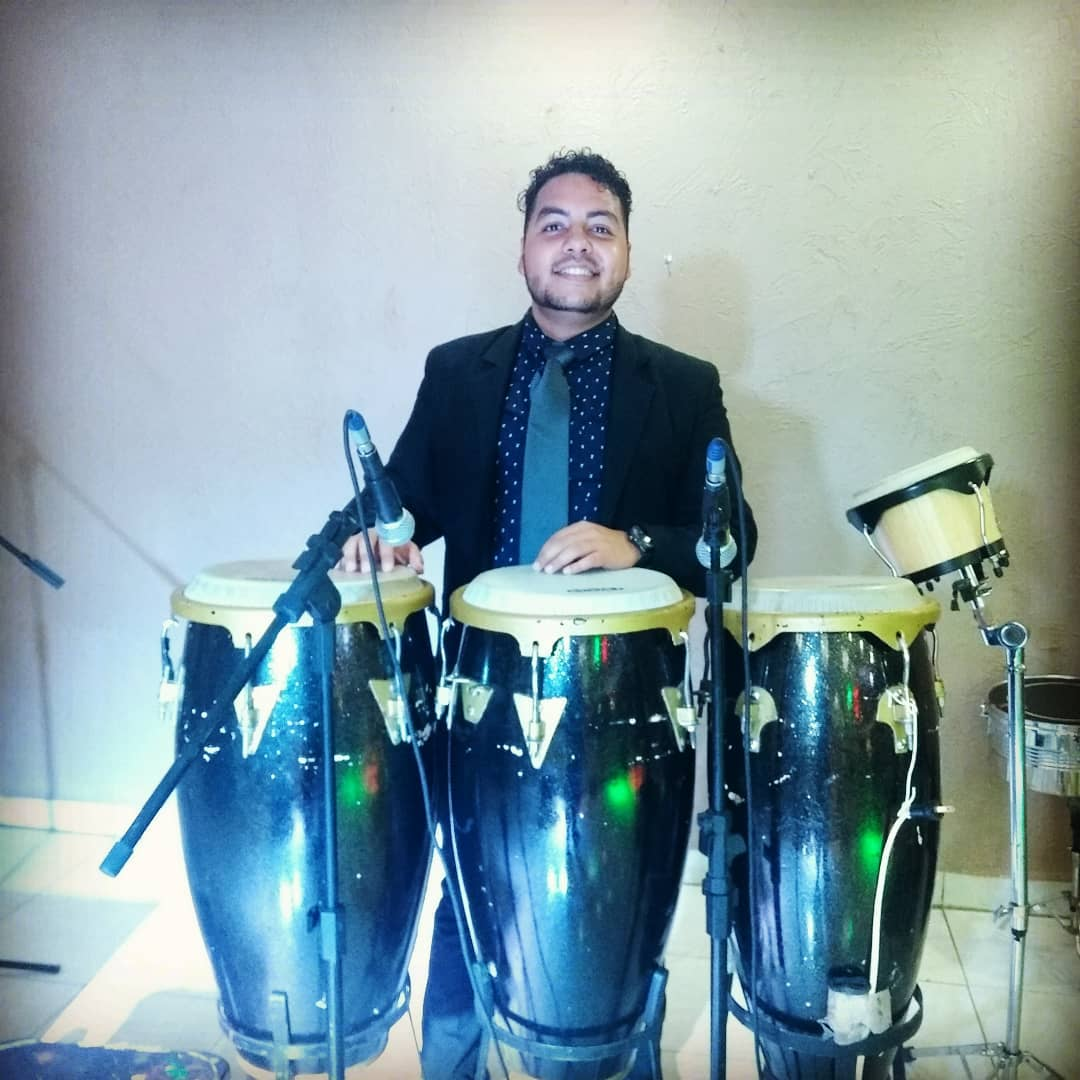Yoshi: (395, 135, 723, 586)
